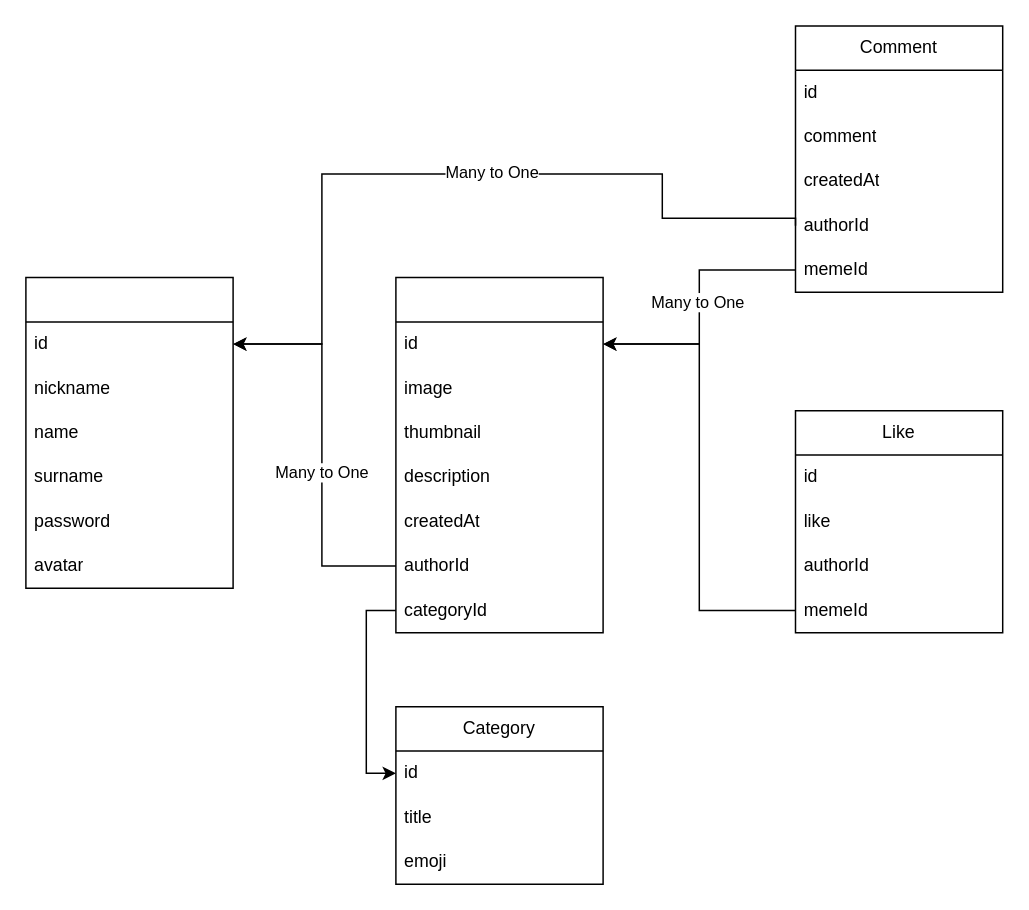
This 1029x910 diagram has some shape labels left out. The shapes that lost their labels are listed below. From the top down, each one's box as (x1, y1, x2, y2) in pixels, then its label:
(24, 276, 233, 588): User
(394, 276, 603, 633): Meme
